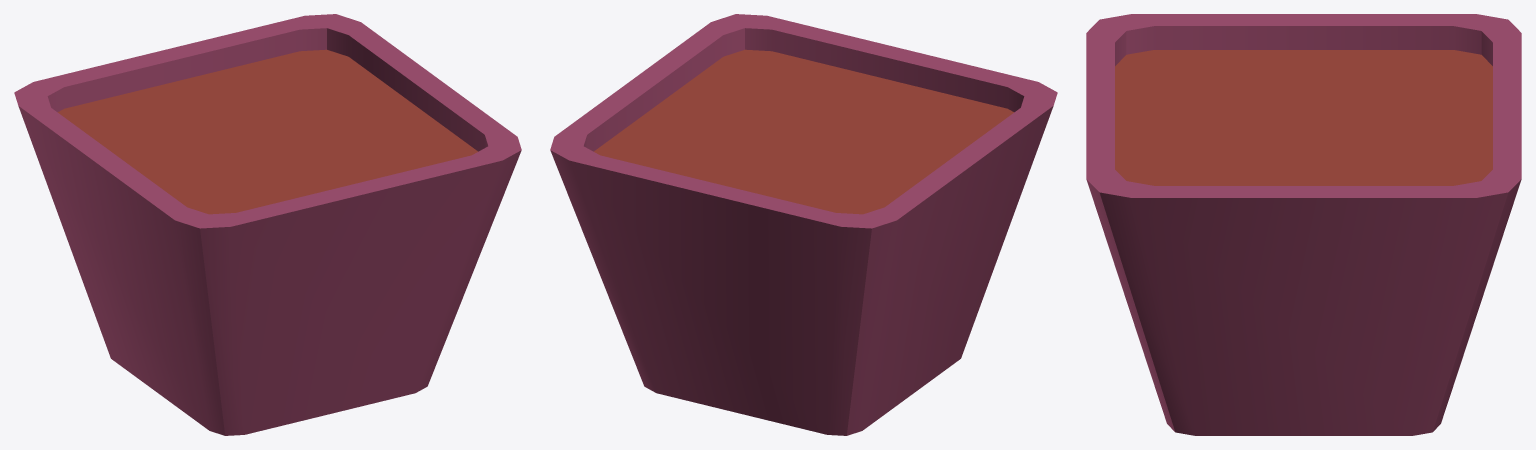
File: Pot_2.fbx
3 renders of one model, left to right at view 1: azimuth 30°, elevation 25°; view 2: azimuth 150°, elevation 25°; view 3: azimuth 270°, elevation 25°, orthographic. The views are drawn at different scales.
Parts seen in each view (by area): view 1: FlowerPod_1; view 2: FlowerPod_1; view 3: FlowerPod_1.
Part boxes in pixels (<box>): FlowerPod_1: <box>14,14,521,435</box>; FlowerPod_1: <box>550,14,1057,435</box>; FlowerPod_1: <box>1086,14,1521,435</box>.
Bounding box in the file's own units: 26.24 × 18.09 × 26.24.
1 material, 1 textured.
